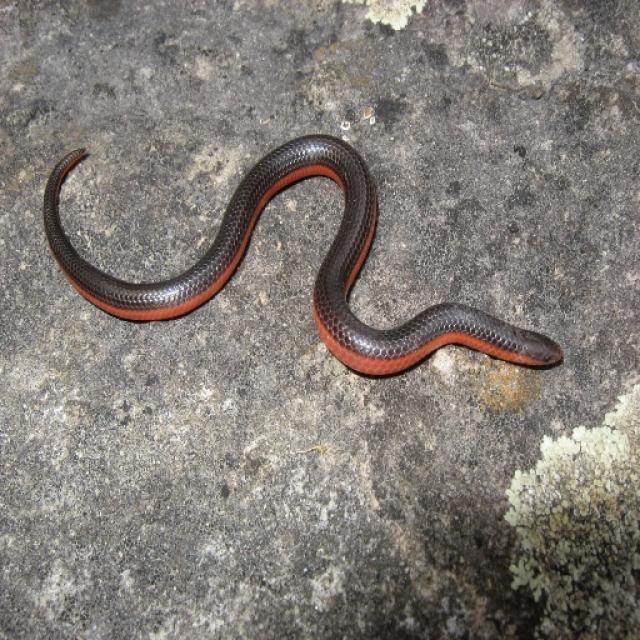snake: (36, 123, 574, 390)
